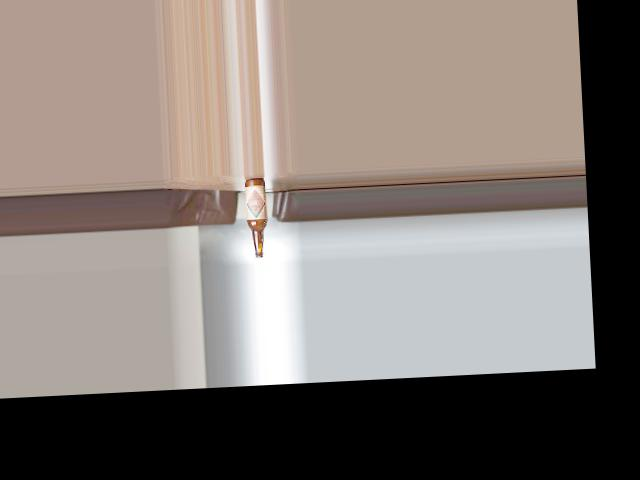beer: (245, 177, 269, 257)
